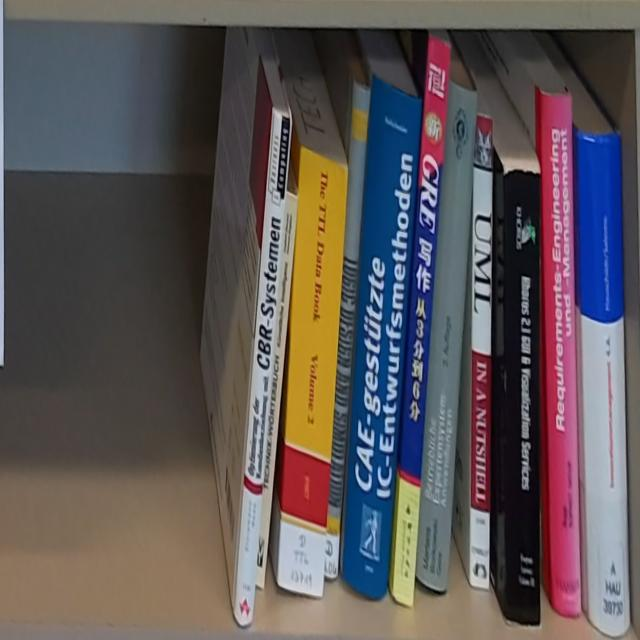Book Spine: (339, 72, 419, 604), (390, 31, 451, 605), (277, 142, 352, 596), (417, 80, 479, 592), (235, 108, 293, 631), (574, 129, 632, 639), (538, 85, 582, 617), (326, 76, 372, 581), (502, 167, 543, 628), (254, 193, 300, 597), (470, 108, 496, 593)
